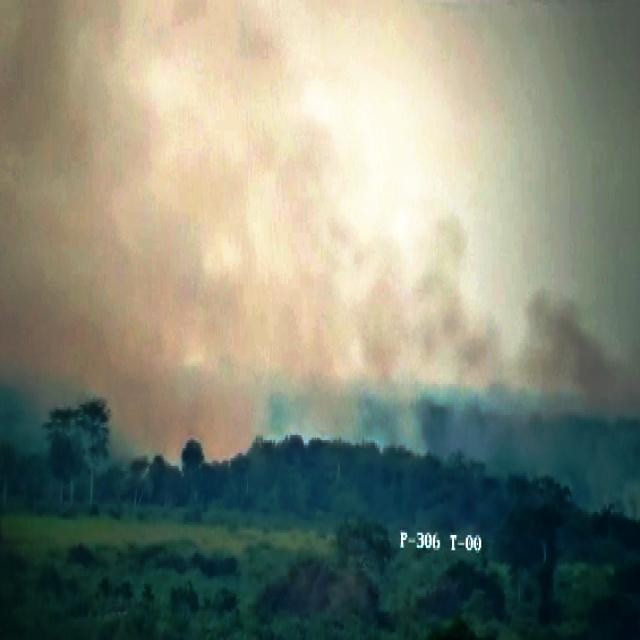asap: (1, 1, 282, 487), (230, 1, 439, 495), (416, 167, 640, 530)
